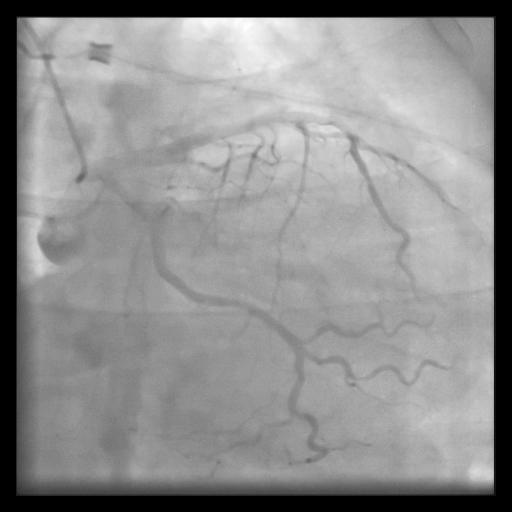Stenosis: (234, 297, 250, 312)
